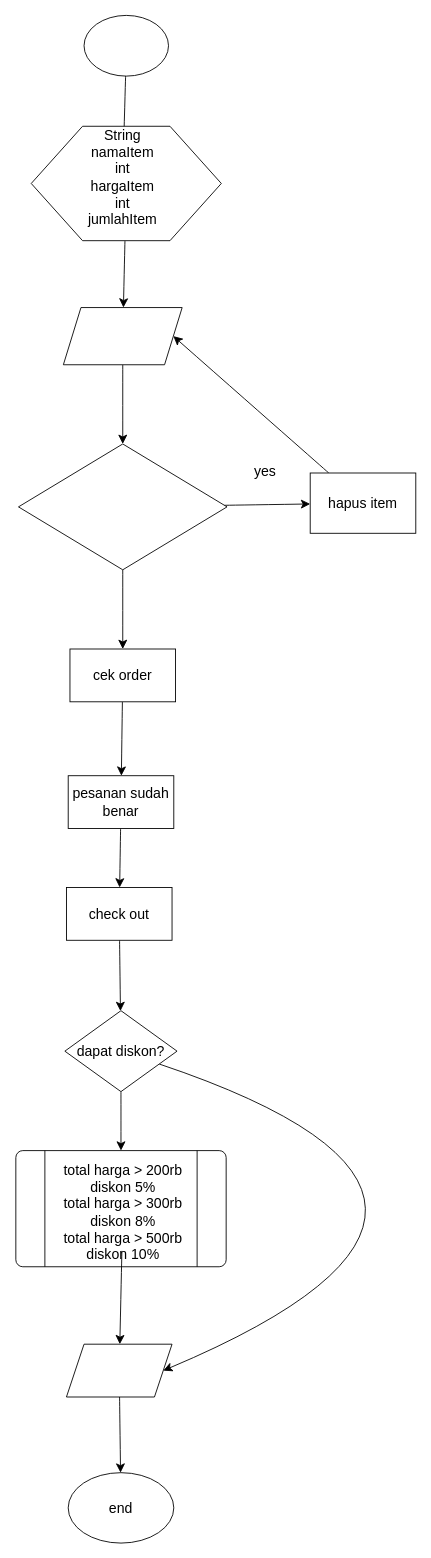
Image size: 431x1558. Some labels were removed from this diagram. Here are the shapes that lost their labels. From the top down, the centre of each, then its label:
At point (126, 45): "Start".
At point (122, 336): "Input Banyak Pesanan :".
At point (122, 506): "namaItem, hargaItem, dan hargaItem error".
At point (119, 1370): "tampil harga".
